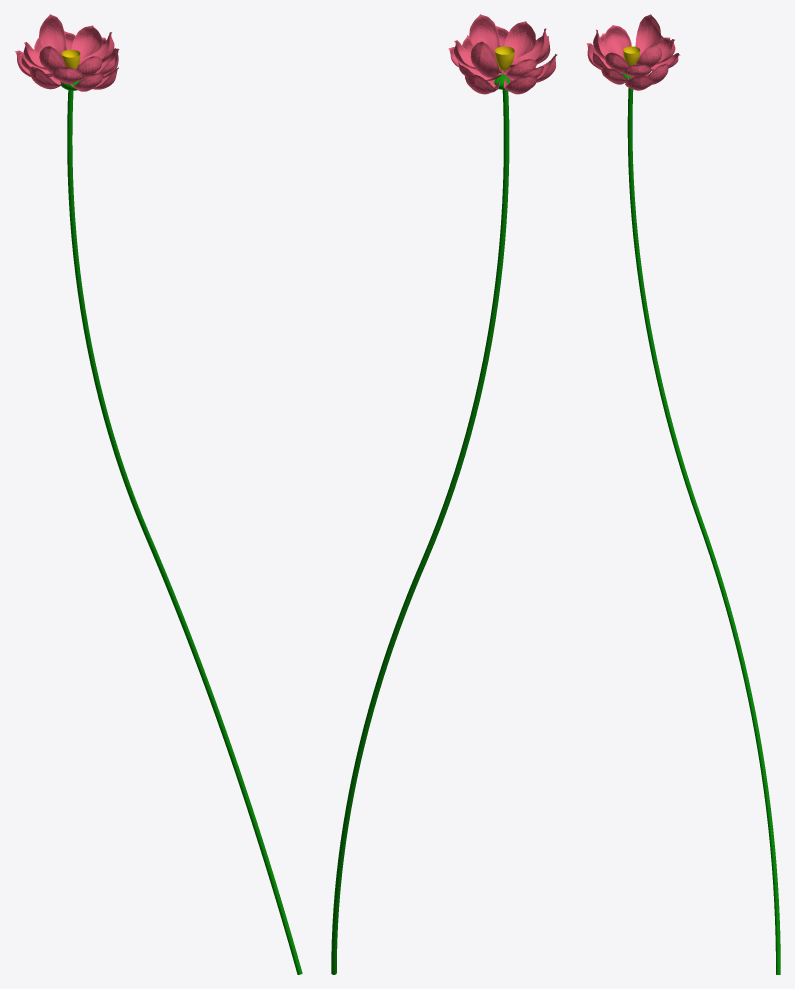
File: Lotus067.fbx
3 views of the same model, side by side, from view 1: azimuth 30°, elevation 25°; view 2: azimuth 150°, elevation 25°; view 3: azimuth 330°, elevation 25° (orthographic). The views are drawn at different scales.
Parts seen in each view (by area): view 1: pCylinder5, nurbsToPoly23, nurbsToPoly19; view 2: pCylinder5, nurbsToPoly18, nurbsToPoly22, nurbsToPoly23; view 3: pCylinder5, nurbsToPoly23, nurbsToPoly20.
Part boxes in pixels (left/top/right/bottom): pCylinder5: left=67, top=90, right=302, bottom=974; nurbsToPoly23: left=39, top=14, right=66, bottom=55; nurbsToPoly19: left=71, top=25, right=101, bottom=60; pCylinder5: left=331, top=89, right=509, bottom=974; nurbsToPoly18: left=504, top=21, right=535, bottom=60; nurbsToPoly22: left=469, top=14, right=500, bottom=54; nurbsToPoly23: left=470, top=41, right=501, bottom=77; pCylinder5: left=627, top=88, right=780, bottom=974; nurbsToPoly23: left=635, top=14, right=660, bottom=57; nurbsToPoly20: left=604, top=25, right=631, bottom=56.
Bounding box in the file's own units: 52.48 × 202 × 24.34.
